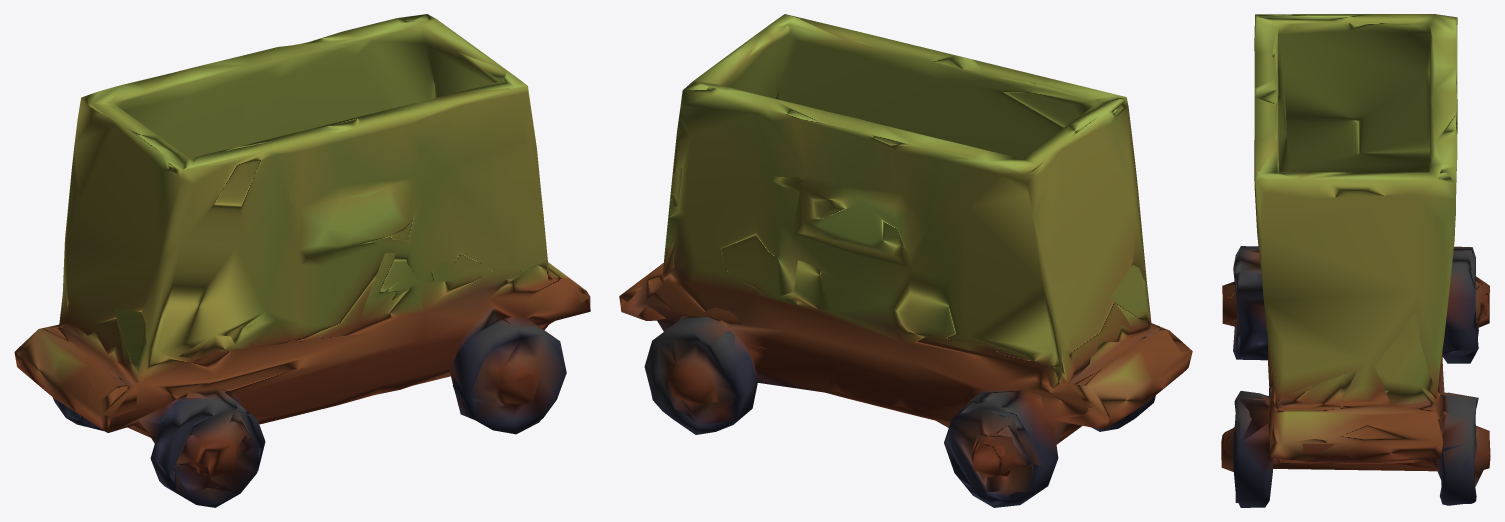
Rendered from gen3d-mine-cart-lod0.glb.
The picture shows the model from 3 angles, left to right: view 1: azimuth 30°, elevation 25°; view 2: azimuth 150°, elevation 25°; view 3: azimuth 270°, elevation 25°; orthographic projection.
Visible parts, largest first — view 1: part_0; view 2: part_0; view 3: part_0.
Part boxes in pixels (x1,y1,x2,y2): part_0: (14,14,590,507); part_0: (619,14,1192,507); part_0: (1221,14,1490,507).
Size of the model in its own units: 1.51 by 0.9991 by 0.7286.
